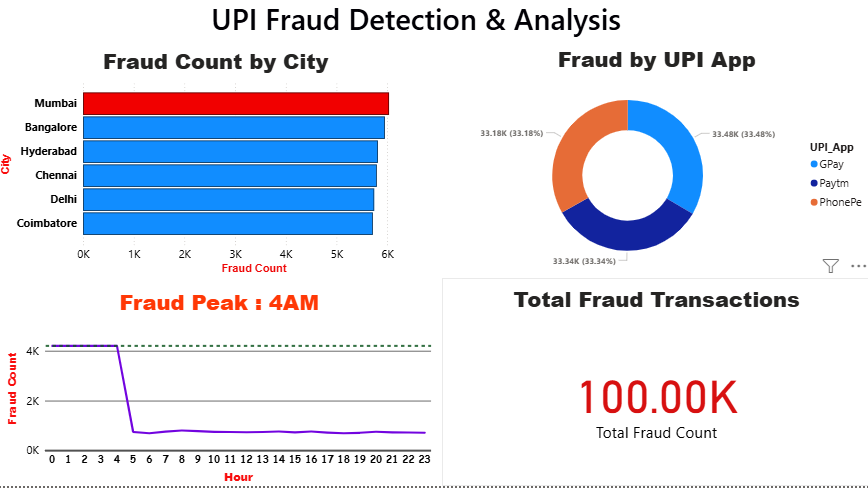

The dashboard page shown, as its layout file describes it:
{"tool":"powerbi","page":{"name":"Page 1","canvas":[1280,720],"ordinal":0},"visuals":[{"type":"clusteredBarChart","title":"Fraud Count  by City","fields":{"Y":["CountNonNull(upi_cleaned.Is_Fraud)"],"Category":["upi_cleaned.City"]},"box":[0,73.3,640,341.7],"z":0},{"type":"lineChart","title":"Fraud Peak : 4AM","fields":{"Category":["upi_cleaned.Hour"],"Y":["CountNonNull(upi_cleaned.Is_Fraud)"]},"box":[10,428.3,630,293.3],"z":1000},{"type":"donutChart","title":"Fraud by UPI App","fields":{"Category":["upi_cleaned.UPI_App"],"Y":["CountNonNull(upi_cleaned.Is_Fraud)"]},"box":[651.7,73.3,628.3,341.7],"z":2000},{"type":"card","title":"Total Fraud Transactions","fields":{"Values":["CountNonNull(upi_cleaned.Is_Fraud)"]},"box":[651.7,415,628.3,305],"z":3000},{"type":"textbox","box":[46.8,1.5,1132.7,71.7],"z":4000}]}

Visuals, with their boxes in screenshot pixels (x1, y1, x2, y2), scaled from the page's 1280x720 canvas onto the 868x488 screenshot:
"Fraud Count  by City" clusteredBarChart: <bbox>0, 50, 434, 281</bbox>
"Fraud Peak : 4AM" lineChart: <bbox>7, 290, 434, 487</bbox>
"Fraud by UPI App" donutChart: <bbox>442, 50, 867, 281</bbox>
"Total Fraud Transactions" card: <bbox>442, 281, 867, 487</bbox>
textbox: <bbox>32, 1, 800, 50</bbox>
